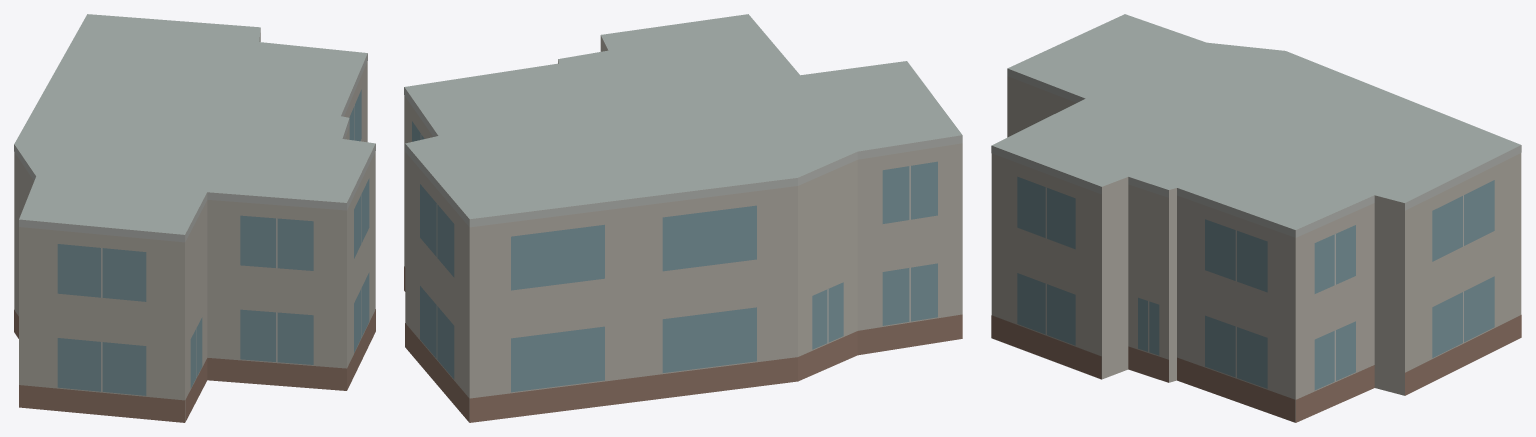
The model's file is survey-upis-32918433.glb.
The picture shows the model from 3 angles, left to right: view 1: azimuth 30°, elevation 25°; view 2: azimuth 150°, elevation 25°; view 3: azimuth 270°, elevation 25°; orthographic projection. The views are drawn at different scales.
Visible parts, largest first — view 1: survey-upis-32918433.tmp; view 2: survey-upis-32918433.tmp; view 3: survey-upis-32918433.tmp.
Boxes of the visible parts, x1,y1,x2,y2 form: survey-upis-32918433.tmp: [14, 14, 375, 422]; survey-upis-32918433.tmp: [404, 14, 962, 422]; survey-upis-32918433.tmp: [991, 14, 1521, 422].
Bounding box in the file's own units: 14.69 × 6.1 × 15.21.
